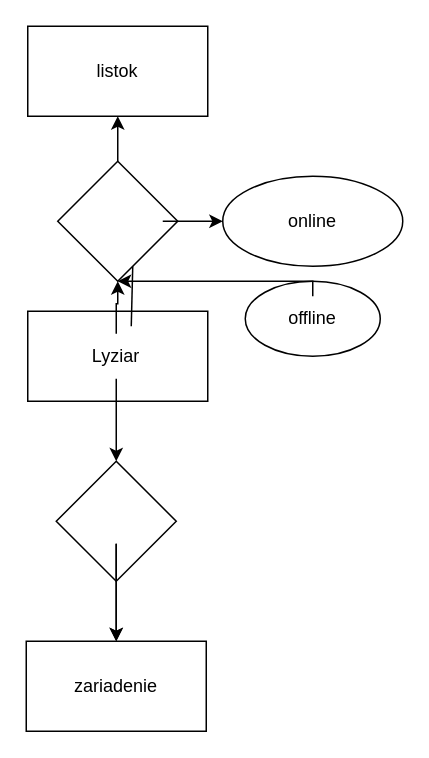
Some shapes in this 429 by 758 pixel diagram are drawn without their labels. Each missing label, with the centre of its shape:
"kupit" goes at pixel 117 220.
"rezervacia" goes at pixel 115 520.
